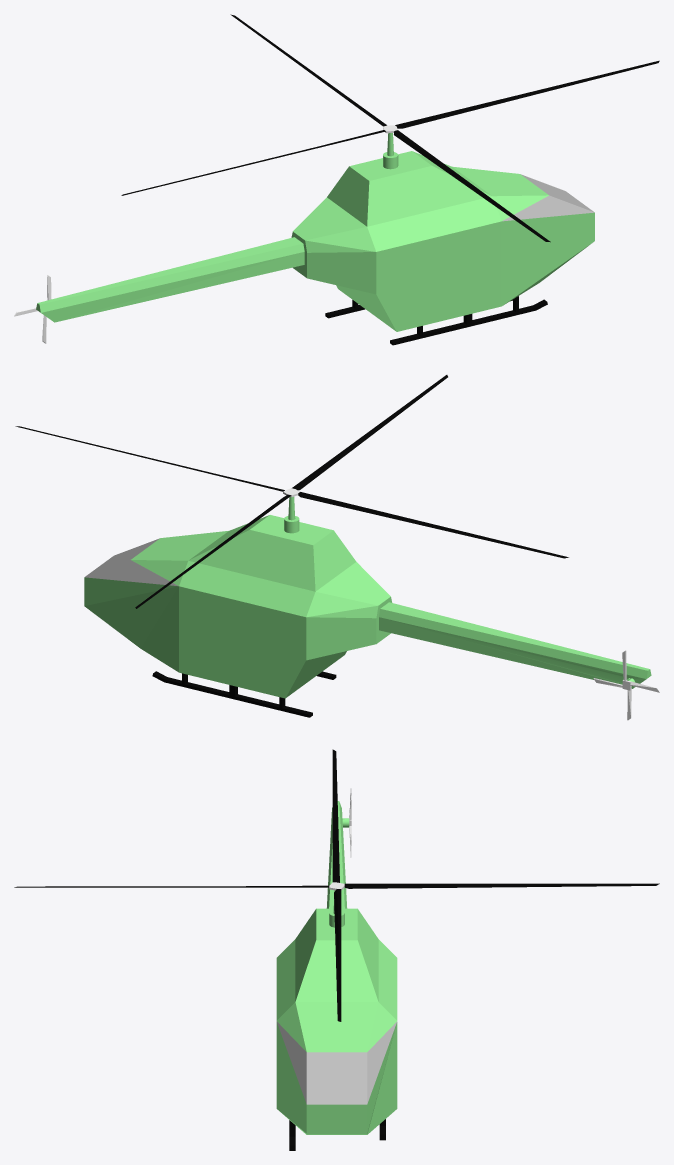
File: heli.dae
3 views of the same model, one above another, from view 1: azimuth 30°, elevation 25°; view 2: azimuth 150°, elevation 25°; view 3: azimuth 270°, elevation 25° (orthographic). The views are drawn at different scales.
Visible parts, largest first — view 1: SketchUp (×3), blade (×4), group_7; view 2: SketchUp (×3), blade (×4), group_6; view 3: SketchUp (×3), blade (×4).
Boxes of the visible parts, left/top/right/bottom form: SketchUp (×3): left=36, top=151, right=594, bottom=331; blade (×4): left=121, top=14, right=659, bottom=242; group_7: left=390, top=296, right=547, bottom=345; SketchUp (×3): left=84, top=515, right=651, bottom=698; blade (×4): left=15, top=375, right=568, bottom=608; group_6: left=152, top=671, right=312, bottom=717; SketchUp (×3): left=276, top=801, right=397, bottom=1134; blade (×4): left=14, top=749, right=659, bottom=1021.
Size of the model in its own units: 318 by 269 by 92.45.
